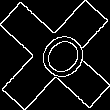O_SW: (22, 22, 88, 88)
